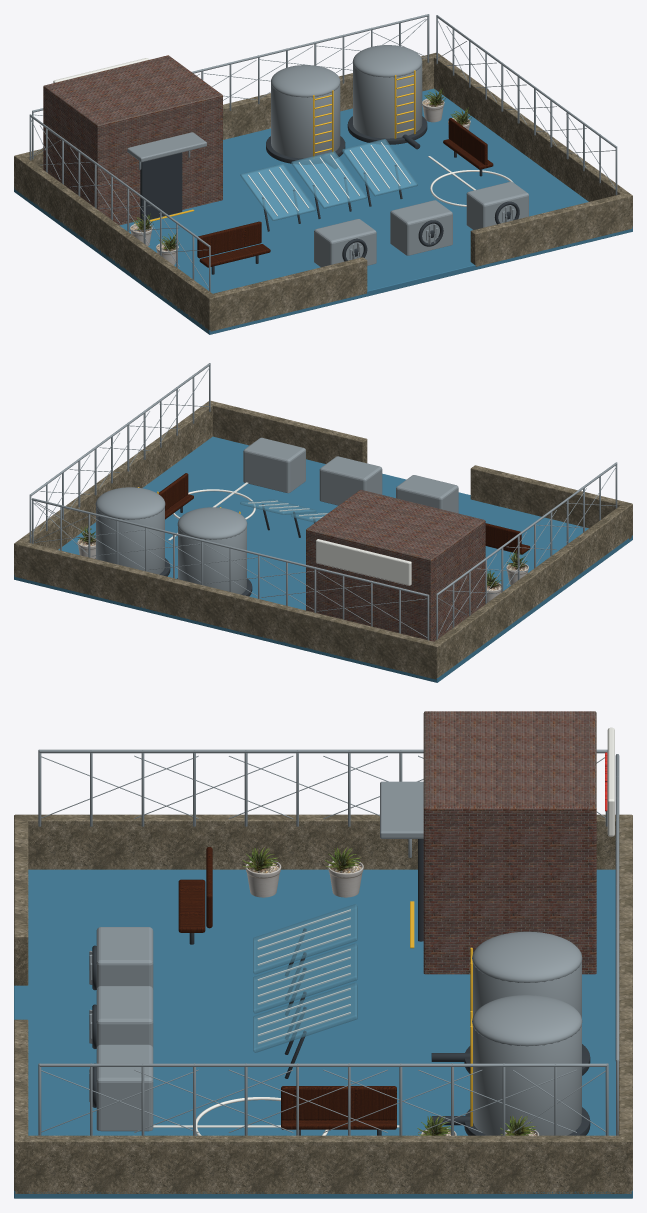
File: korean_school_rooftop.glb
The picture shows the model from 3 angles, top to bottom: view 1: azimuth 30°, elevation 25°; view 2: azimuth 150°, elevation 25°; view 3: azimuth 270°, elevation 25°; orthographic projection. The views are drawn at different scales.
Visible parts, largest first — view 1: SchoolRooftop_Deck, RefinedSurface_SchoolRoof_Concrete, RefinedSurface_SchoolRoof_GalvanizedSteel, Stairwell_Block, RefinedSurface_SchoolRoof_WindowGlass, RefinedSurface_SchoolRoof_HVACPaintedMetal, RefinedSurface_SchoolRoof_DarkMetal, RefinedSurface_SchoolRoof_BenchWood, RefinedSurface_SchoolRoof_LineWhite, RefinedSurface_SchoolRoof_SafetyYellow, Refined_RoofPlanter_4; view 2: RefinedSurface_SchoolRoof_Concrete, SchoolRooftop_Deck, RefinedSurface_SchoolRoof_GalvanizedSteel, Stairwell_Block, RefinedSurface_SchoolRoof_HVACPaintedMetal, RefinedSurface_SchoolRoof_LineWhite, RefinedSurface_SchoolRoof_BenchWood, RefinedSurface_SchoolRoof_WindowGlass, Refined_RoofPlanter_1; view 3: SchoolRooftop_Deck, RefinedSurface_SchoolRoof_Concrete, Stairwell_Block, RefinedSurface_SchoolRoof_GalvanizedSteel, RefinedSurface_SchoolRoof_WindowGlass, RefinedSurface_SchoolRoof_HVACPaintedMetal, RefinedSurface_SchoolRoof_BenchWood, RefinedSurface_SchoolRoof_LineWhite, RefinedSurface_SchoolRoof_DarkMetal, Refined_RoofPlanter_2, Refined_RoofPlanter_1, RefinedSurface_SchoolRoof_SafetyYellow.
Boxes of the visible parts, <box> form: SchoolRooftop_Deck: <box>14,88,632,334</box>; RefinedSurface_SchoolRoof_Concrete: <box>14,53,632,331</box>; RefinedSurface_SchoolRoof_GalvanizedSteel: <box>29,14,617,291</box>; Stairwell_Block: <box>43,55,222,225</box>; RefinedSurface_SchoolRoof_WindowGlass: <box>240,139,417,221</box>; RefinedSurface_SchoolRoof_HVACPaintedMetal: <box>314,181,528,267</box>; RefinedSurface_SchoolRoof_DarkMetal: <box>140,116,519,274</box>; RefinedSurface_SchoolRoof_BenchWood: <box>197,118,493,267</box>; RefinedSurface_SchoolRoof_LineWhite: <box>53,58,513,216</box>; RefinedSurface_SchoolRoof_SafetyYellow: <box>134,70,415,224</box>; Refined_RoofPlanter_4: <box>422,88,445,122</box>; RefinedSurface_SchoolRoof_Concrete: <box>14,401,632,679</box>; SchoolRooftop_Deck: <box>14,436,632,682</box>; RefinedSurface_SchoolRoof_GalvanizedSteel: <box>29,363,617,640</box>; Stairwell_Block: <box>306,489,485,641</box>; RefinedSurface_SchoolRoof_HVACPaintedMetal: <box>243,437,458,513</box>; RefinedSurface_SchoolRoof_LineWhite: <box>168,482,411,585</box>; RefinedSurface_SchoolRoof_BenchWood: <box>158,473,530,554</box>; RefinedSurface_SchoolRoof_WindowGlass: <box>240,499,327,522</box>; Refined_RoofPlanter_1: <box>506,550,528,585</box>; SchoolRooftop_Deck: <box>14,869,632,1198</box>; RefinedSurface_SchoolRoof_Concrete: <box>14,814,632,1193</box>; Stairwell_Block: <box>423,711,596,974</box>; RefinedSurface_SchoolRoof_GalvanizedSteel: <box>38,749,619,1135</box>; RefinedSurface_SchoolRoof_WindowGlass: <box>253,904,357,1052</box>; RefinedSurface_SchoolRoof_HVACPaintedMetal: <box>96,927,153,1131</box>; RefinedSurface_SchoolRoof_BenchWood: <box>178,847,396,1129</box>; RefinedSurface_SchoolRoof_LineWhite: <box>153,727,614,1135</box>; RefinedSurface_SchoolRoof_DarkMetal: <box>92,839,590,1135</box>; Refined_RoofPlanter_2: <box>324,847,363,897</box>; Refined_RoofPlanter_1: <box>242,847,281,897</box>; RefinedSurface_SchoolRoof_SafetyYellow: <box>410,901,472,1126</box>.
Bounding box in the file's own units: 15 × 3.75 × 12.
Materials: 12 (4 with a texture image).
